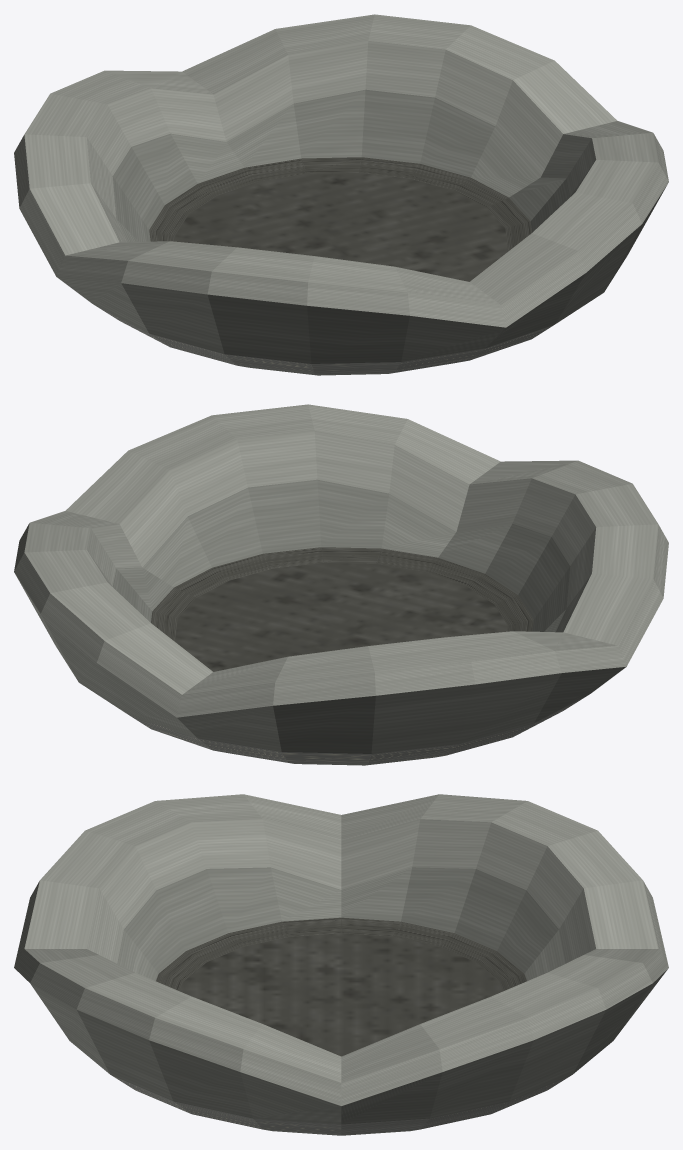
The model's file is metal_ashtray.glb.
3 renders of one model, top to bottom at view 1: azimuth 30°, elevation 25°; view 2: azimuth 150°, elevation 25°; view 3: azimuth 270°, elevation 25°, orthographic.
Parts seen in each view (by area): view 1: Metal Ashtray; view 2: Metal Ashtray; view 3: Metal Ashtray.
Boxes of the visible parts, x1,y1,x2,y2 form: Metal Ashtray: [14, 14, 668, 375]; Metal Ashtray: [14, 404, 668, 765]; Metal Ashtray: [14, 794, 668, 1135].
Size of the model in its own units: 0.126 by 0.028 by 0.126.
1 material, 1 textured.
